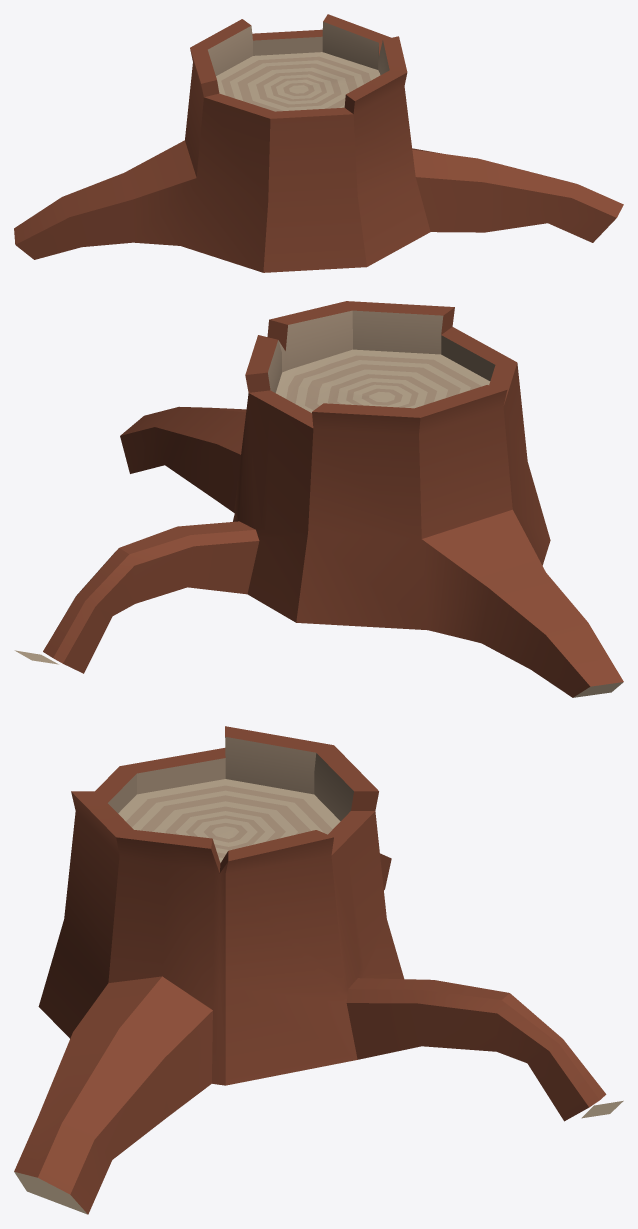
The model's file is Stump 1.fbx.
3 views of the same model, one above another, from view 1: azimuth 30°, elevation 25°; view 2: azimuth 150°, elevation 25°; view 3: azimuth 270°, elevation 25° (orthographic). The views are drawn at different scales.
Visible parts, largest first — view 1: Stump; view 2: Stump; view 3: Stump.
Part boxes in pixels (<box>): Stump: <box>14,14,623,272</box>; Stump: <box>14,301,623,697</box>; Stump: <box>14,726,623,1214</box>.
Bounding box in the file's own units: 7.29 × 2.68 × 5.63.
